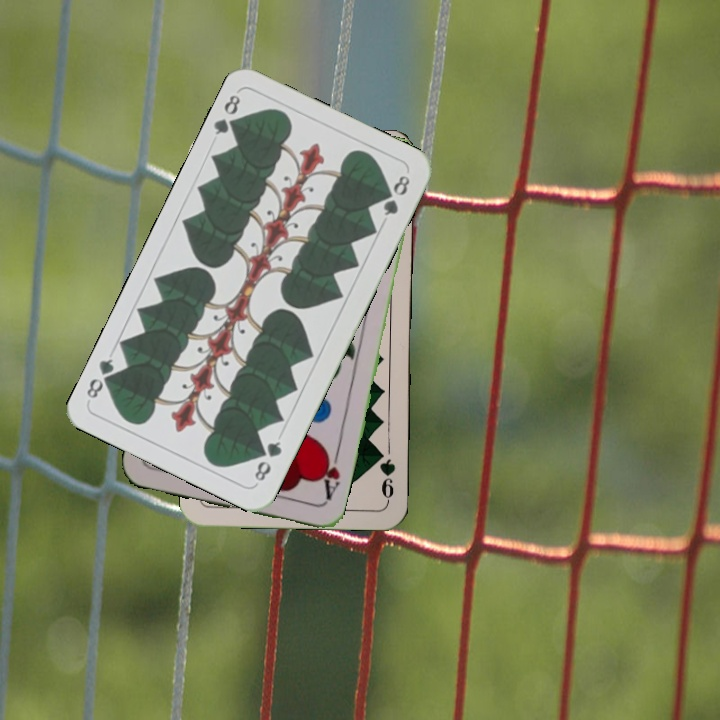G8: (209, 90, 245, 138), (250, 437, 285, 484)
G9: (373, 445, 398, 504)
HA: (315, 445, 343, 505)
